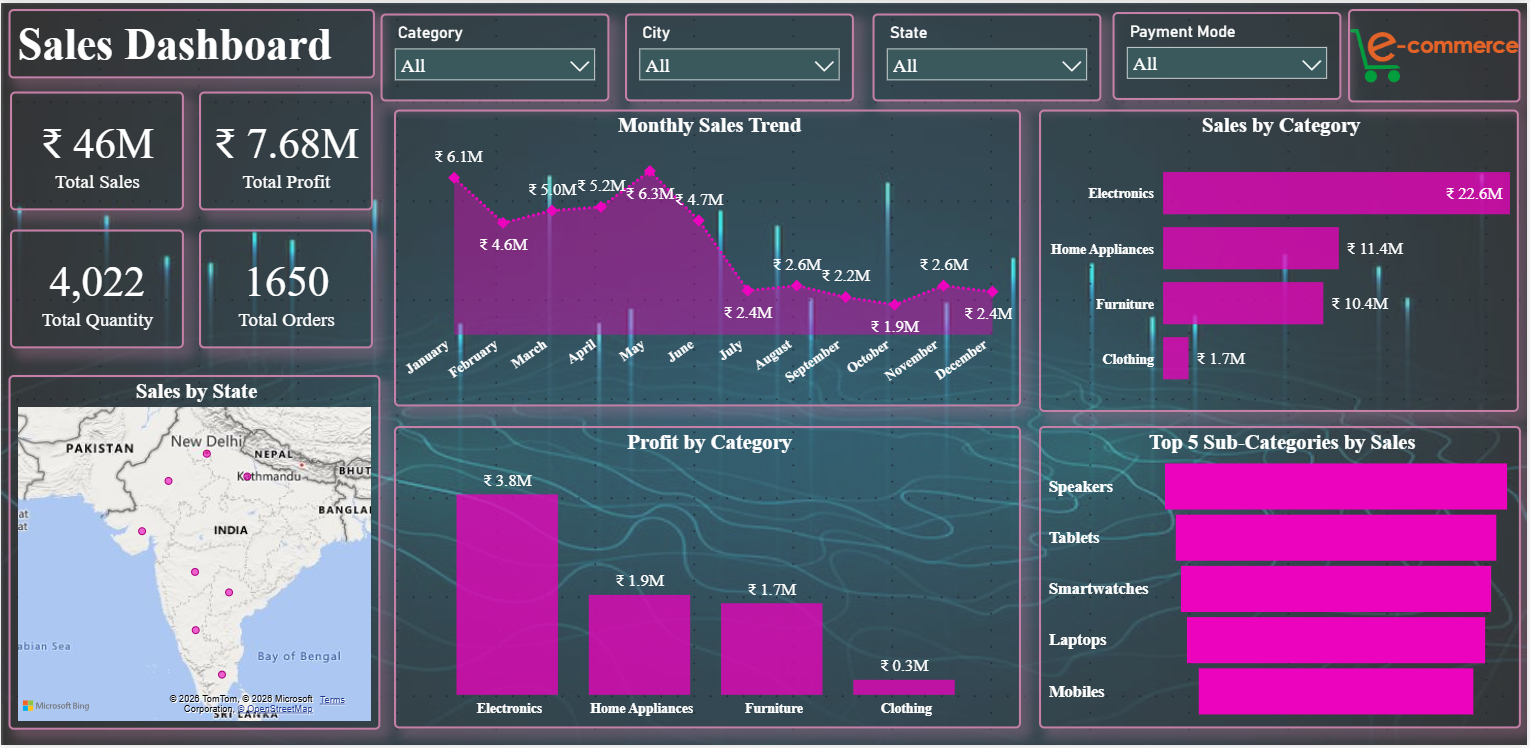

The page's visual inventory and layout, read from the dashboard file:
{"tool":"powerbi","page":{"name":"Page 1","canvas":[1480,720],"ordinal":0},"visuals":[{"type":"textbox","box":[7.1,5.3,355.6,67.6],"z":0},{"type":"image","box":[1306.7,5.3,167.1,90.7],"z":1000},{"type":"card","fields":{"Values":["Sales Master Data.Total Sales"]},"box":[8.3,86.5,168.9,115.6],"z":2000},{"type":"card","fields":{"Values":["Sales Master Data.Total Profit"]},"box":[191.4,86.5,168.9,115.6],"z":3000},{"type":"card","fields":{"Values":["Sales Master Data.Total Quantity"]},"box":[8.3,219.9,168.9,115.6],"z":4000},{"type":"card","fields":{"Values":["Sales Master Data.Total orders"]},"box":[191.4,219.9,168.9,115.6],"z":5000},{"type":"slicer","fields":{"Values":["Sales Master Data.Category"]},"box":[368,9.5,222.2,85.3],"z":6000},{"type":"slicer","fields":{"Values":["Sales Master Data.City"]},"box":[604.4,9.5,222.2,85.3],"z":7000},{"type":"slicer","fields":{"Values":["Sales Master Data.State"]},"box":[844.4,9.5,222.2,85.3],"z":8000},{"type":"slicer","fields":{"Values":["Sales Master Data.Payment Mode"]},"box":[1077.3,8.9,222.2,85.3],"z":9000},{"type":"lineChart","title":"Monthly Sales Trend","fields":{"Category":["Sales Master Data.Order Date.Variation.Date Hierarchy.Month"],"Y":["Sales Master Data.Total Sales"]},"box":[380.4,103.1,608,288],"z":10000},{"type":"clusteredColumnChart","title":"Profit by Category","fields":{"Y":["Sales Master Data.Total Profit"],"Category":["Sales Master Data.Category"]},"box":[380.4,410.7,608,293.3],"z":11000},{"type":"funnel","title":"Top 5 Sub-Categories by Sales","fields":{"Category":["Sales Master Data.Sub-Category"],"Y":["Sales Master Data.Total Sales"]},"box":[1006.5,411,468,309],"z":12000},{"type":"map","title":"Sales by State","fields":{"Category":["Sales Master Data.State"]},"box":[7.2,360.5,360.5,344.2],"z":13000},{"type":"barChart","title":"Sales by Category","fields":{"Category":["Sales Master Data.Category"],"Y":["Sales Master Data.Total Sales"]},"box":[1007.1,103.2,465.5,293.4],"z":14000}]}

Visuals, with their boxes in screenshot pixels (x1, y1, x2, y2), scaled from the page's 1480x720 canvas onto the 1530x748 screenshot:
textbox: BBox(7, 6, 375, 76)
image: BBox(1351, 6, 1524, 100)
card - Sales Master Data.Total Sales: BBox(9, 90, 183, 210)
card - Sales Master Data.Total Profit: BBox(198, 90, 372, 210)
card - Sales Master Data.Total Quantity: BBox(9, 228, 183, 349)
card - Sales Master Data.Total orders: BBox(198, 228, 372, 349)
slicer - Sales Master Data.Category: BBox(380, 10, 610, 98)
slicer - Sales Master Data.City: BBox(625, 10, 855, 98)
slicer - Sales Master Data.State: BBox(873, 10, 1103, 98)
slicer - Sales Master Data.Payment Mode: BBox(1114, 9, 1343, 98)
"Monthly Sales Trend" lineChart: BBox(393, 107, 1022, 406)
"Profit by Category" clusteredColumnChart: BBox(393, 427, 1022, 731)
"Top 5 Sub-Categories by Sales" funnel: BBox(1041, 427, 1524, 747)
"Sales by State" map: BBox(7, 375, 380, 732)
"Sales by Category" barChart: BBox(1041, 107, 1522, 412)
